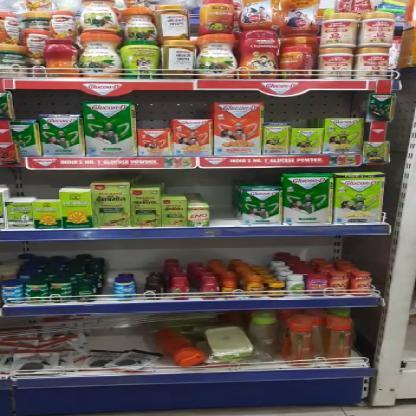Glucon D Nimbu Pani 1-KG: (333, 174, 382, 226), (322, 118, 364, 156)
Glucon D Regular 1-KG: (85, 104, 136, 156)
Glucon D Tangy orange 1-KG: (214, 102, 262, 154)
